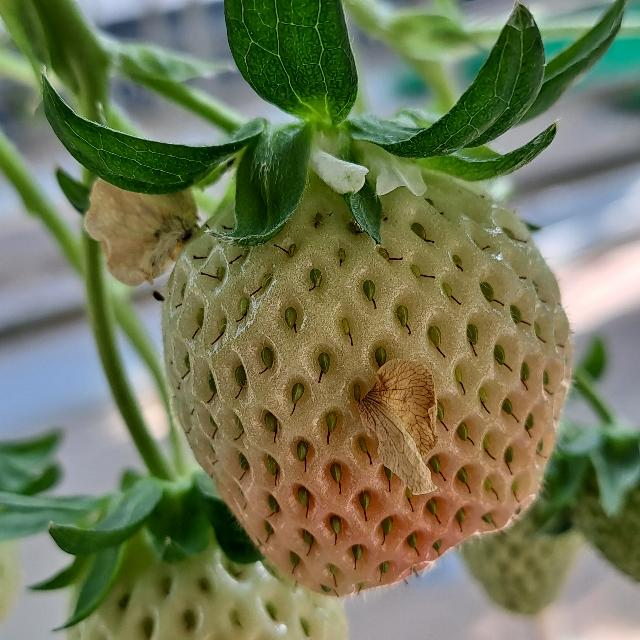Health_50: (162, 166, 572, 596)
